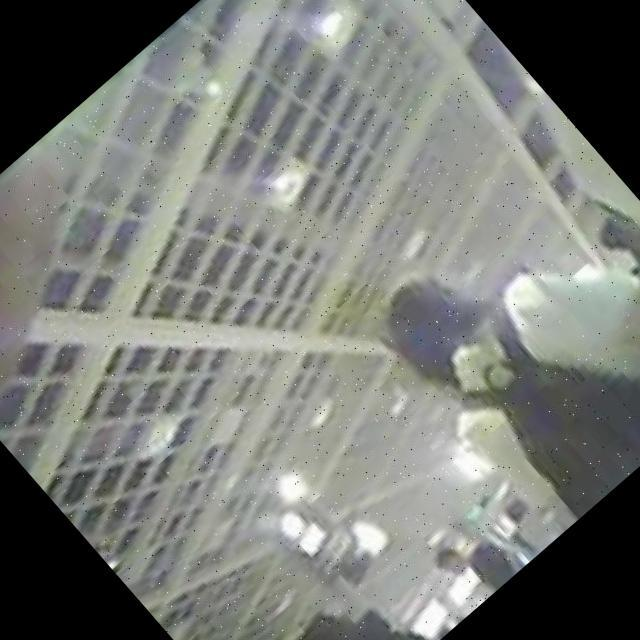person: (355, 172, 640, 546), (422, 502, 528, 610), (289, 570, 426, 640), (586, 194, 640, 346)
